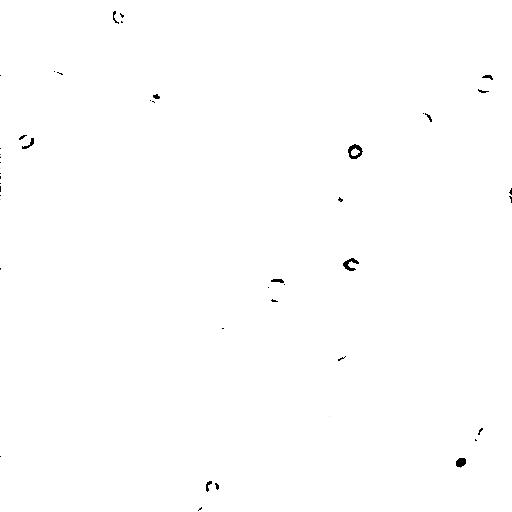micro-algae: (21, 0, 91, 59), (323, 171, 365, 219), (325, 352, 362, 387), (443, 443, 479, 474), (333, 251, 371, 279), (261, 278, 293, 304), (472, 423, 497, 454), (41, 67, 68, 91), (409, 54, 437, 77), (411, 110, 434, 135), (12, 130, 38, 151), (325, 27, 344, 50), (475, 73, 496, 93), (409, 81, 431, 100), (203, 475, 223, 495), (344, 143, 365, 160), (118, 28, 140, 44), (109, 9, 128, 25), (195, 501, 216, 511)
